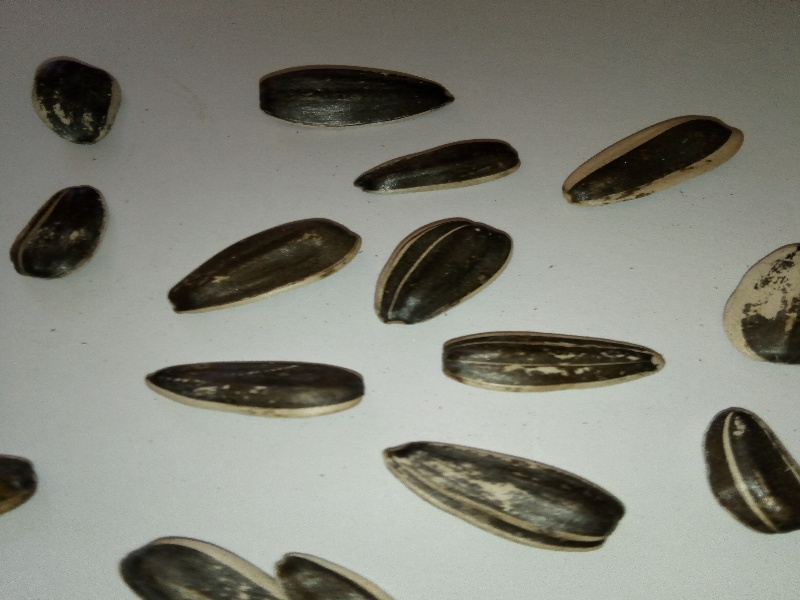w: (369, 435, 645, 558), (159, 209, 372, 324), (555, 101, 751, 221), (374, 209, 521, 330), (437, 322, 675, 396), (137, 350, 376, 423), (691, 399, 800, 540), (248, 59, 461, 131), (345, 135, 528, 197), (7, 181, 119, 281), (23, 47, 132, 149)
